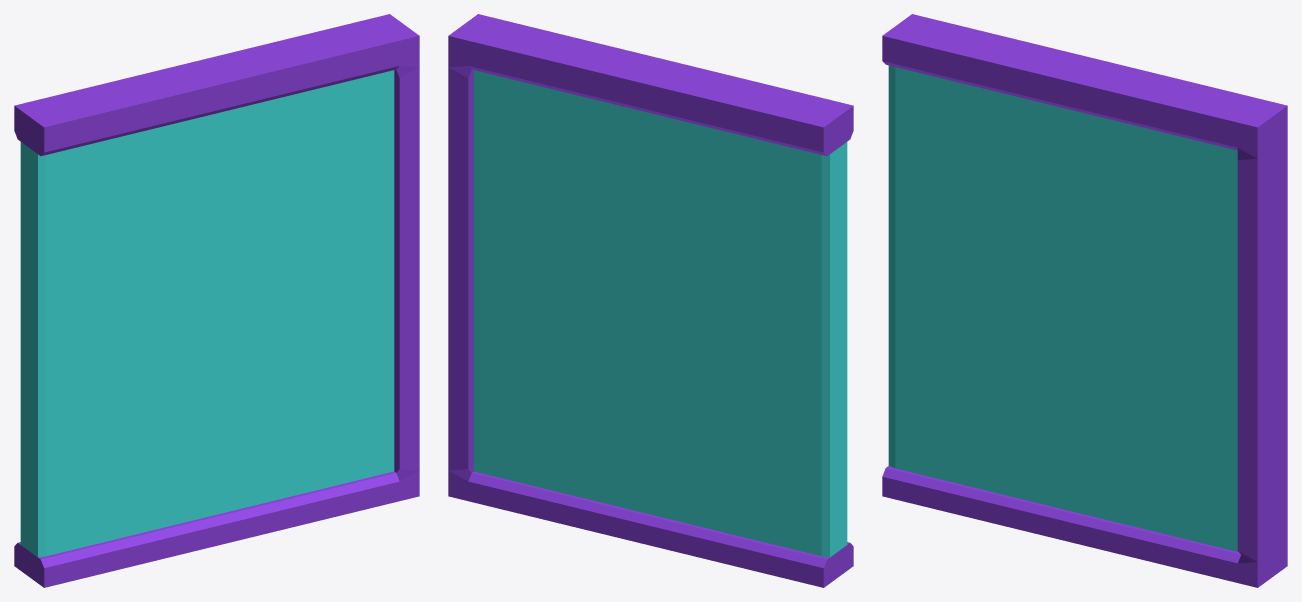
The model's file is Door.fbx.
3 views of the same model, side by side, from view 1: azimuth 30°, elevation 25°; view 2: azimuth 150°, elevation 25°; view 3: azimuth 330°, elevation 25° (orthographic).
Parts seen in each view (by area): view 1: Door; view 2: Door; view 3: Door.
Part boxes in pixels (x1,y1,x2,y2): Door: (14,14,419,587); Door: (448,14,853,587); Door: (882,14,1287,587).
Size of the model in its own units: 475 by 557 by 65.49.
